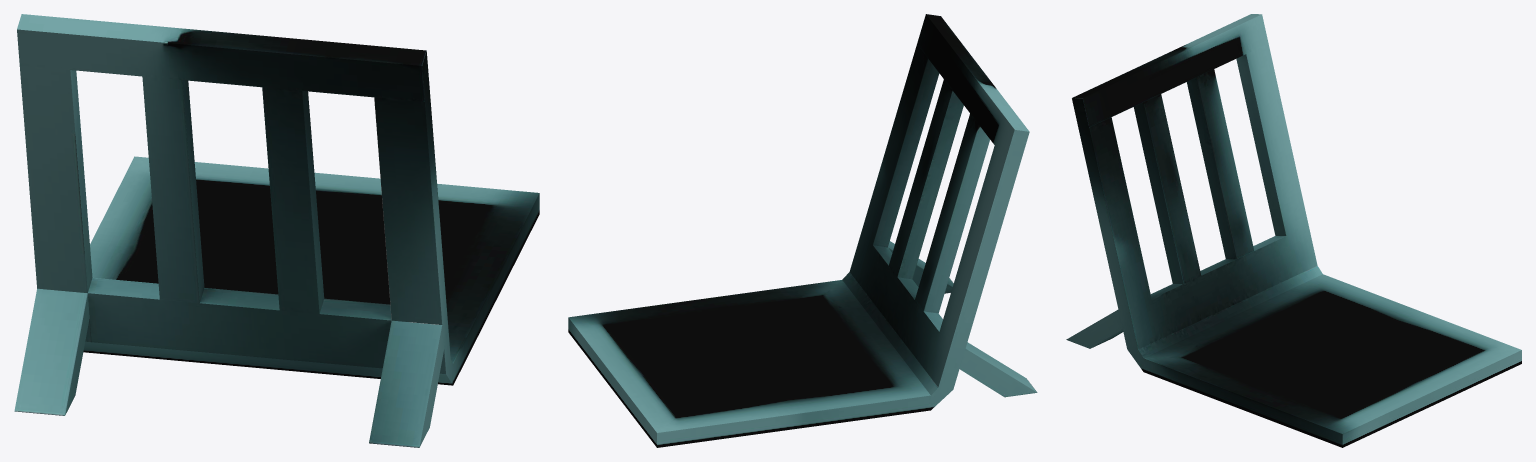
The model's file is chair.glb.
The picture shows the model from 3 angles, left to right: view 1: azimuth 30°, elevation 25°; view 2: azimuth 150°, elevation 25°; view 3: azimuth 270°, elevation 25°; orthographic projection. The views are drawn at different scales.
Parts seen in each view (by area): view 1: Chair; view 2: Chair; view 3: Chair.
Boxes of the visible parts, x1=… form: Chair: x1=14, y1=14, x2=539, y2=447; Chair: x1=568, y1=14, x2=1037, y2=447; Chair: x1=1066, y1=14, x2=1521, y2=447.
Size of the model in its own units: 2.18 by 1.35 by 2.22.
1 material, 1 textured.
